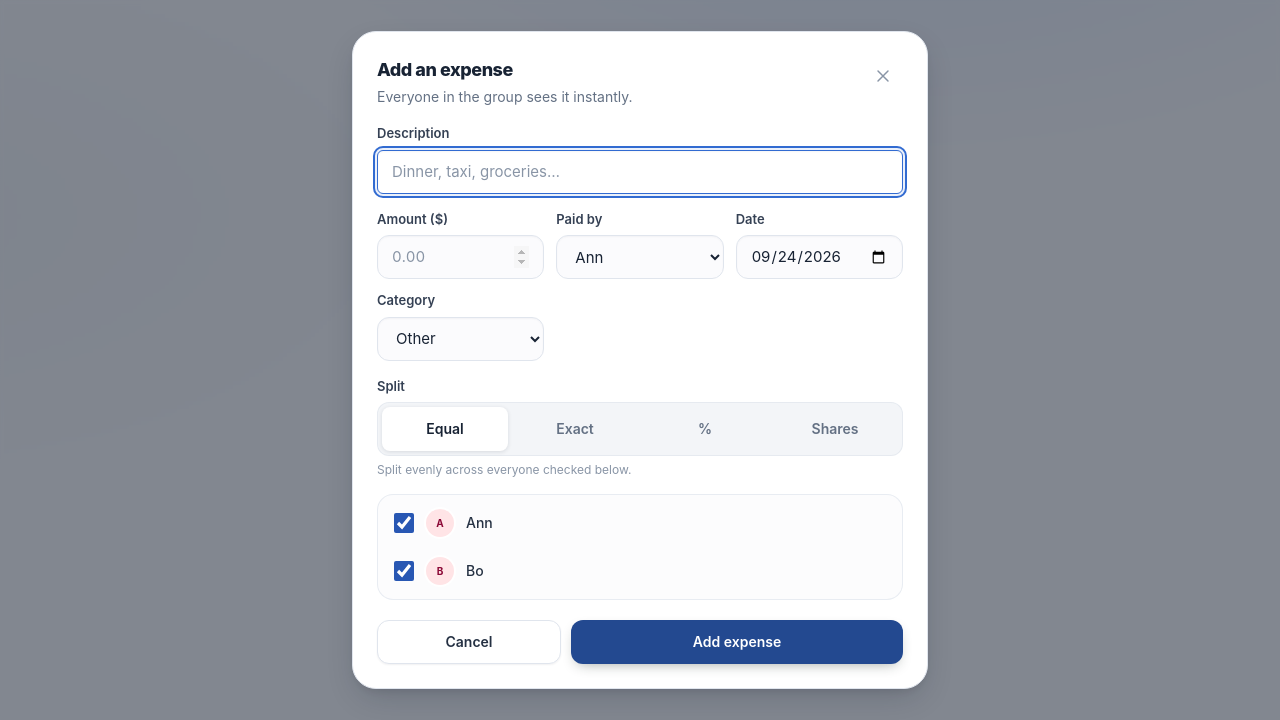
it: ExpenseModal › validates percent and shares modes
Type "Dinner" into the field with placeholder "Dinner, taxi, groceries…" at [640, 172], box [377,150,903,194]
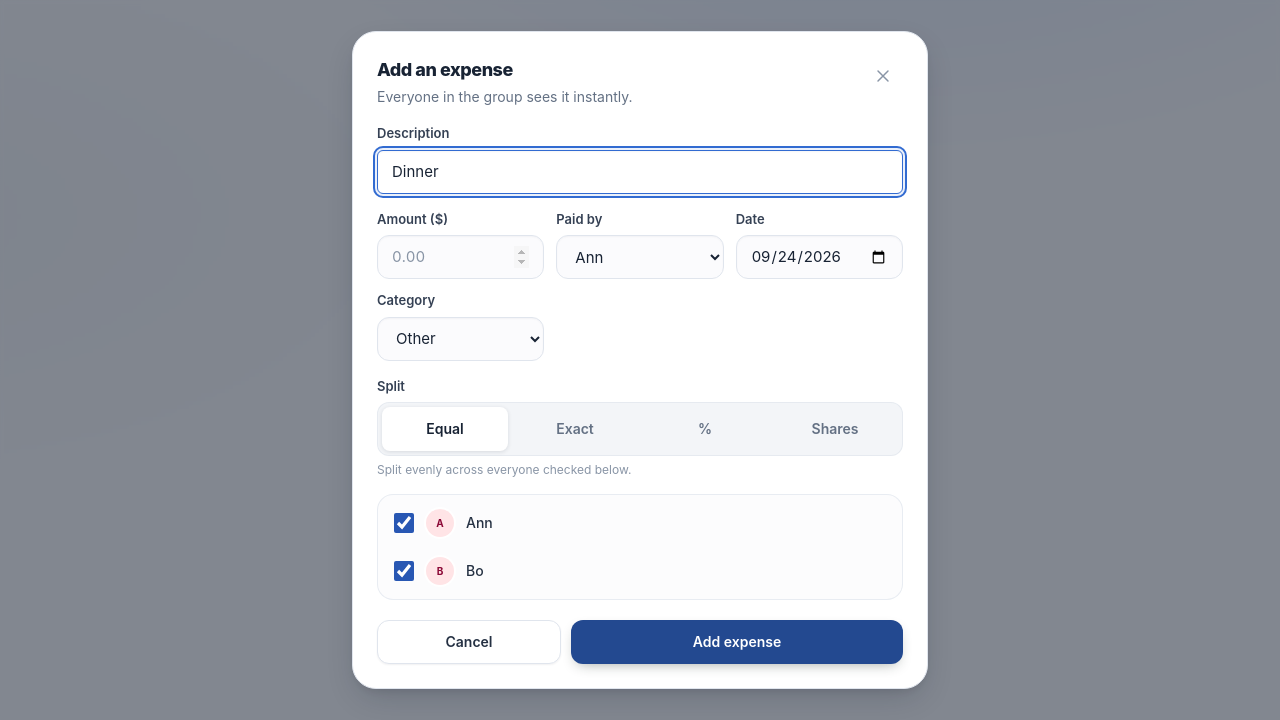
Type "100" into the number field with placeholder "0.00" at [461, 257], box [377,235,544,279]
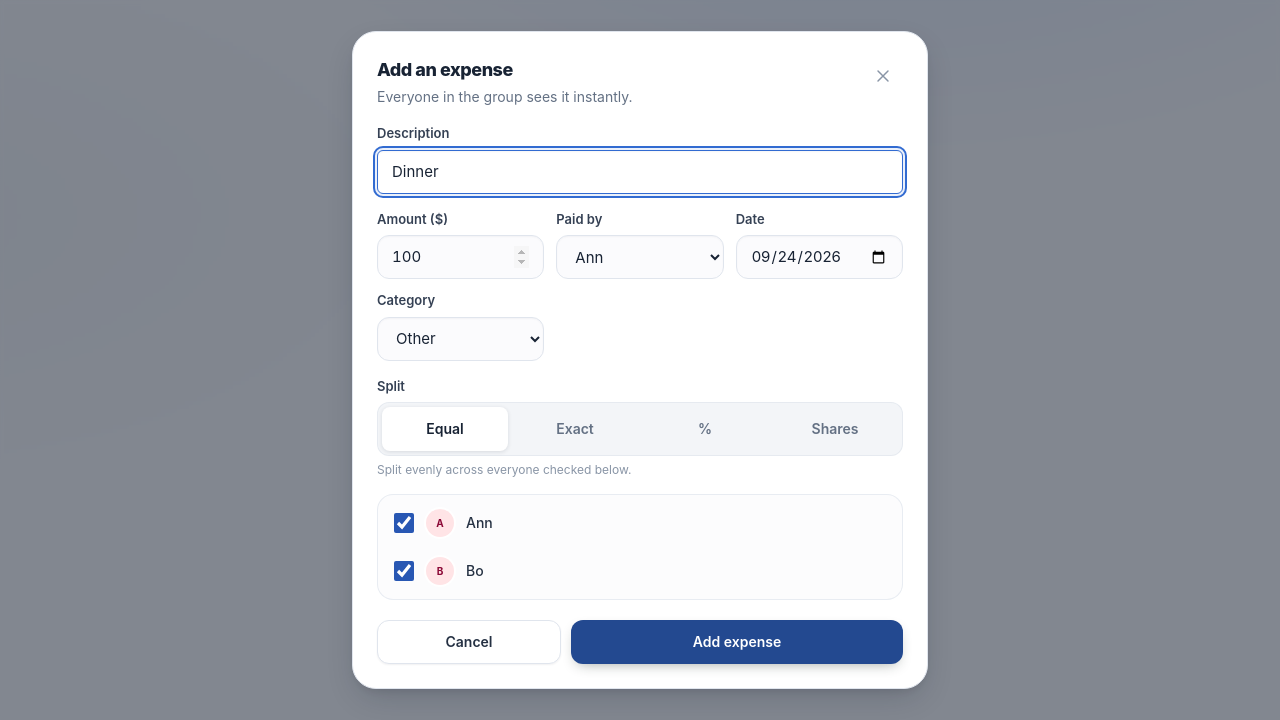
Click the button "%" at [705, 429], box [642,407,768,451]
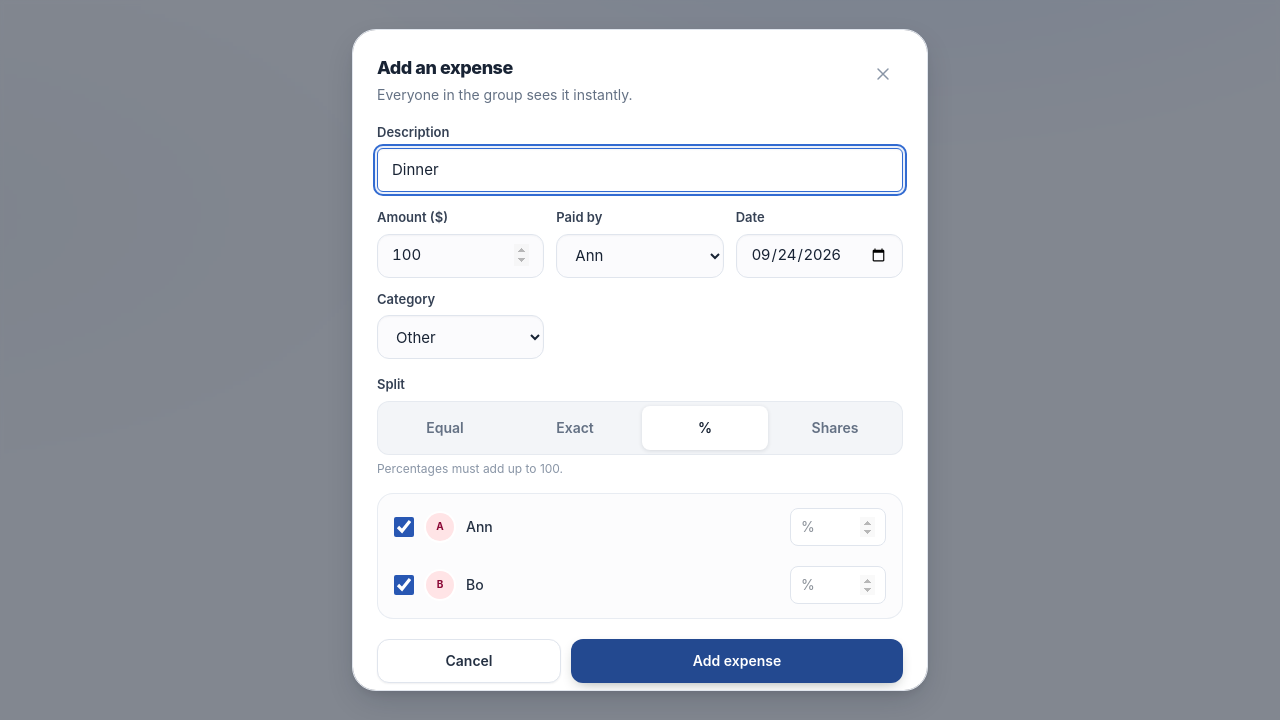
Click the button "Add expense" at [737, 660], box [571,638,903,682]
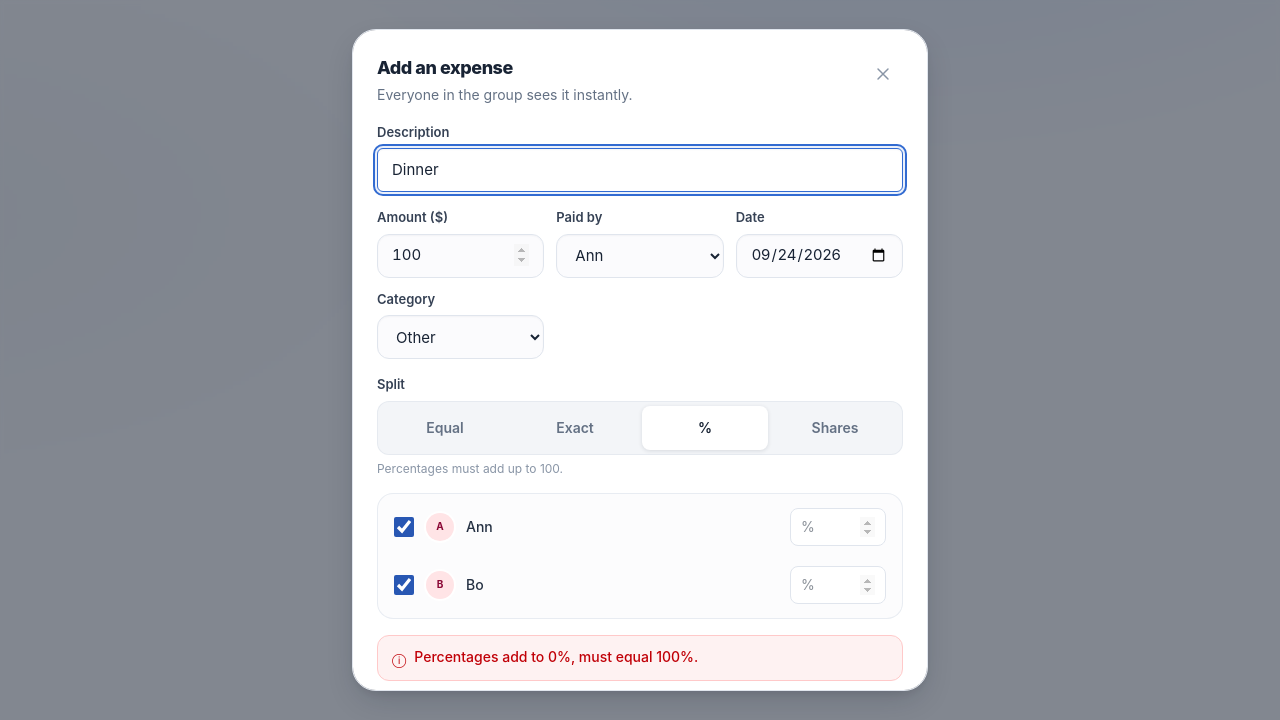
Expected: the message shows "100%", [414,648,698,664]
Click the button "Shares" at [835, 428], box [772,406,898,450]
(page scrolled)
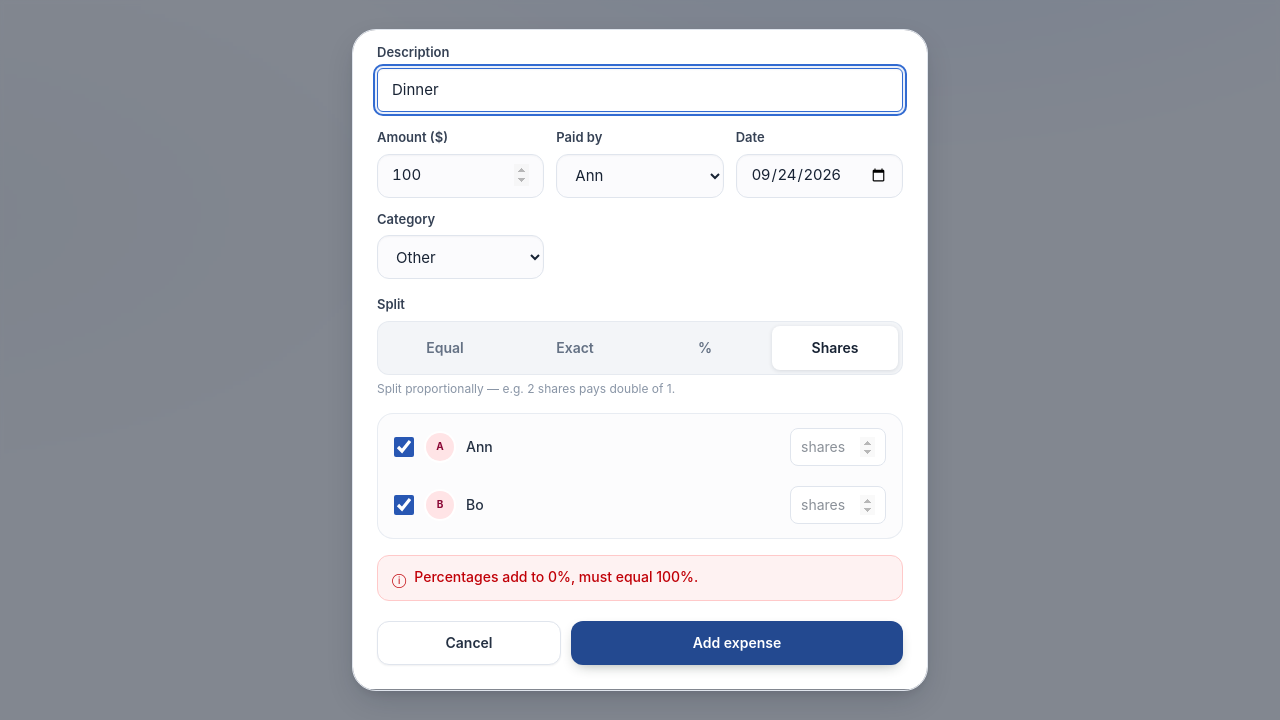
Click the button "Add expense" at [737, 643], box [571,621,903,665]
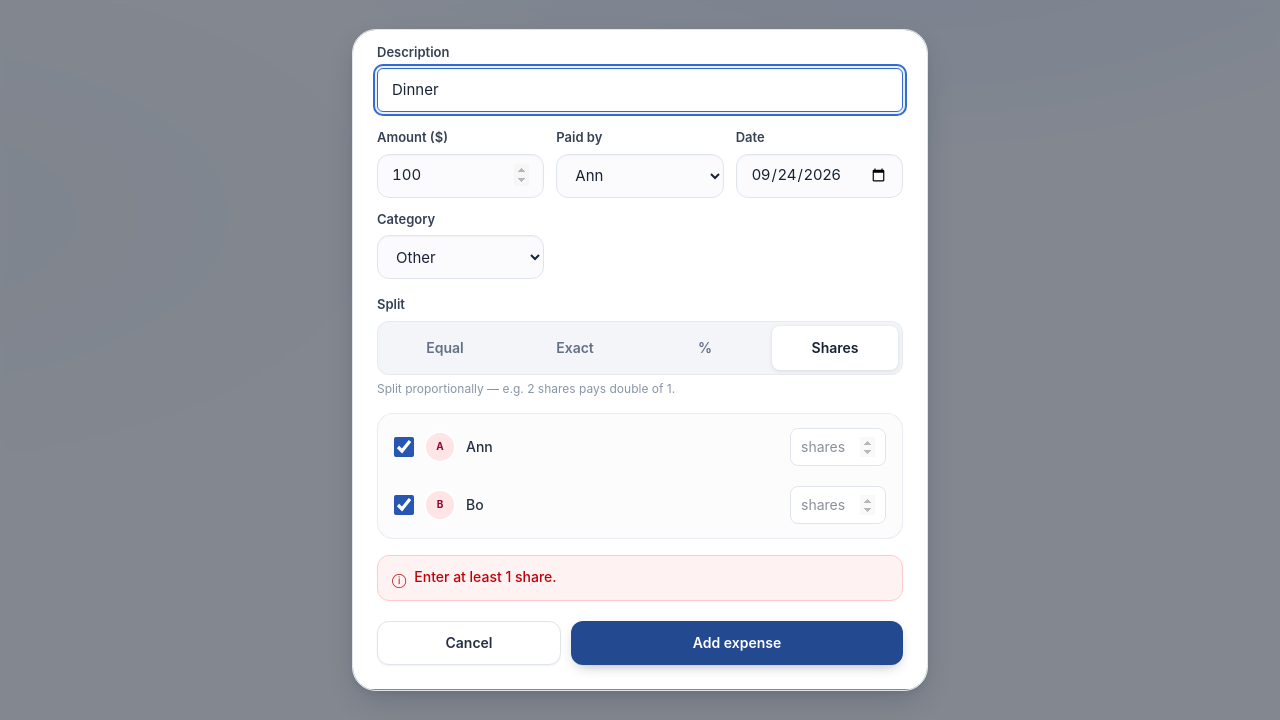
Expected: the message shows "share", [414,568,557,584]
